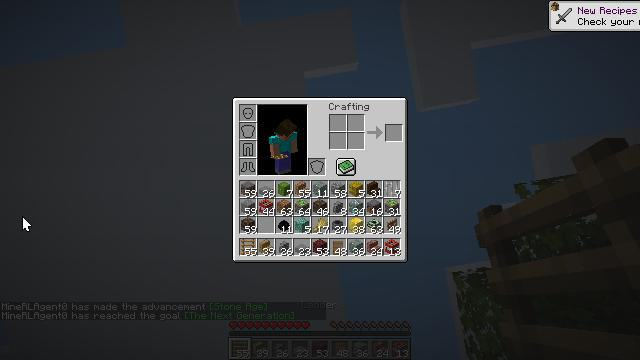cursor: (22, 216, 32, 232)
